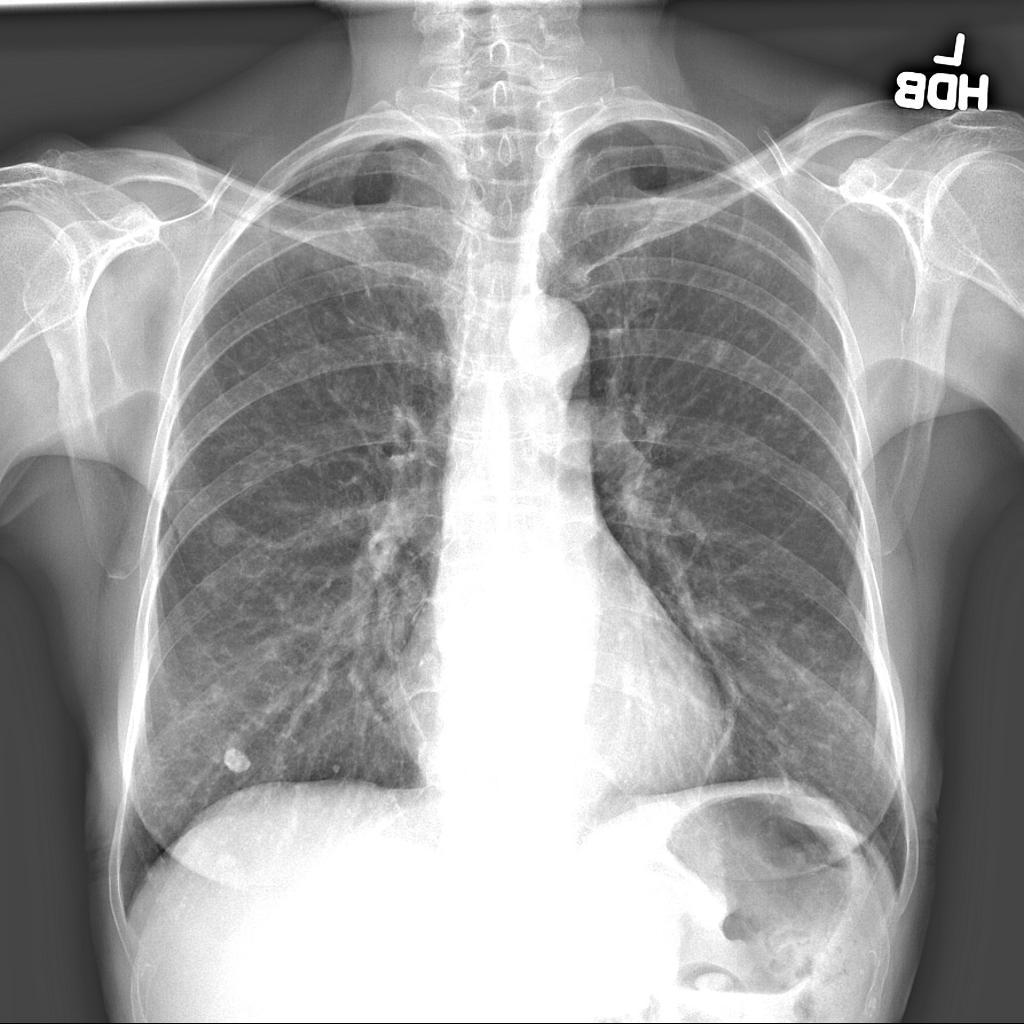Nodule: (213, 522, 243, 550), (229, 752, 250, 777), (748, 332, 762, 346)
